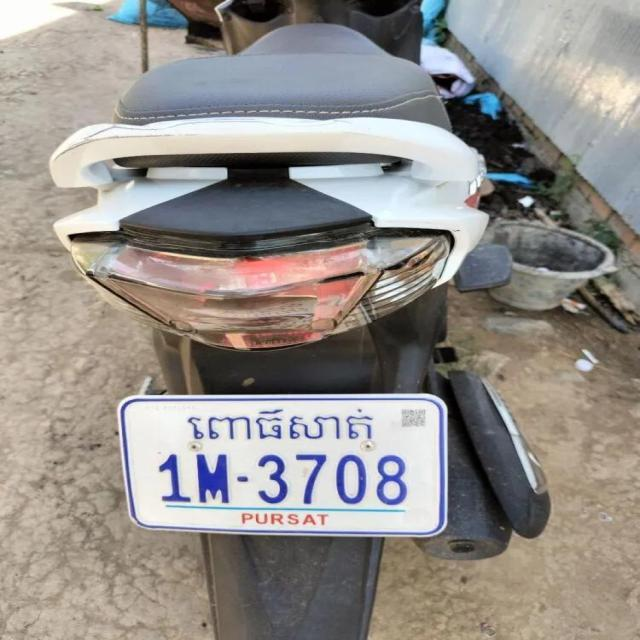Pursat: (183, 404, 378, 449)
